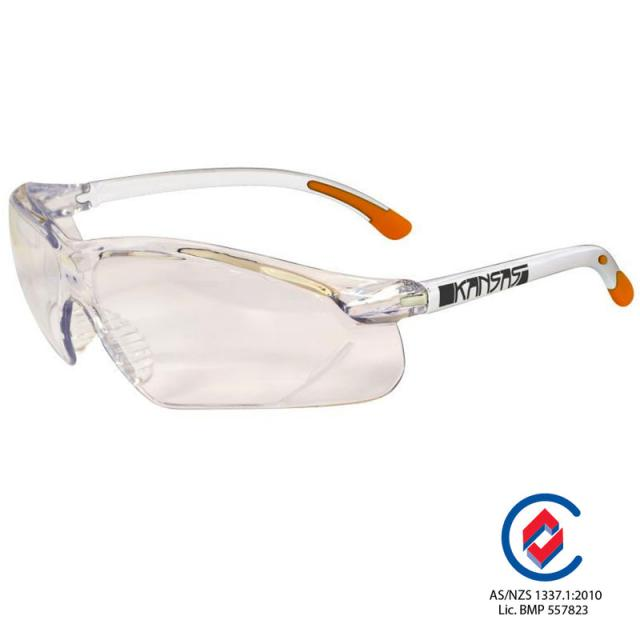Protective Glasses: (0, 32, 638, 473)
